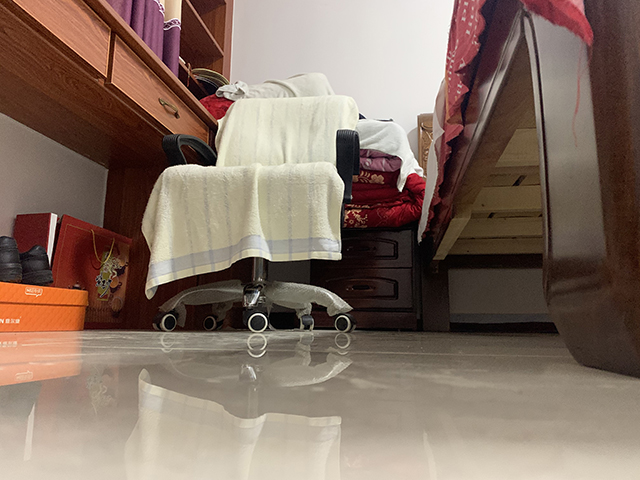bed: (417, 1, 640, 380)
cabinet: (309, 226, 418, 332)
stool: (140, 94, 361, 335)
